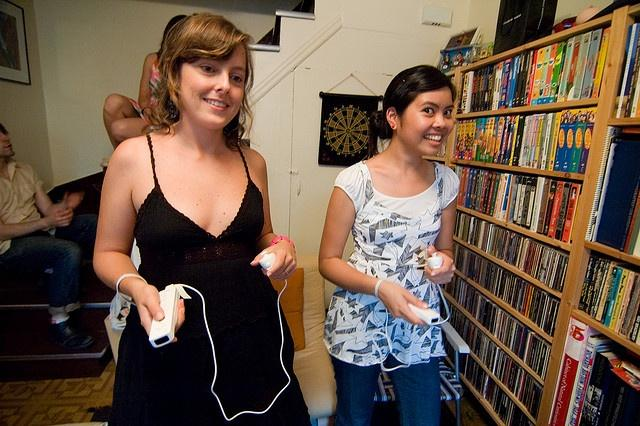Rak: (447, 2, 639, 425)
